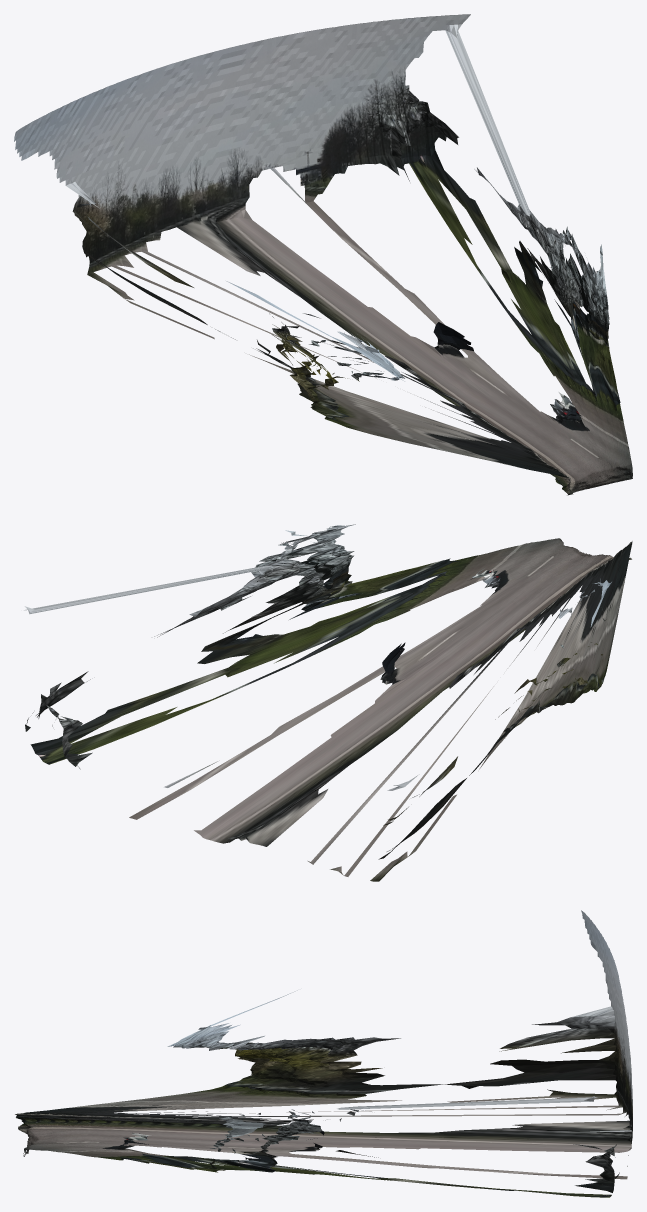
3 renders of one model, top to bottom at view 1: azimuth 30°, elevation 25°; view 2: azimuth 150°, elevation 25°; view 3: azimuth 270°, elevation 25°, orthographic. The views are drawn at different scales.
Visible parts, largest first — view 1: defaultobject; view 2: defaultobject; view 3: defaultobject.
Part boxes in pixels (<box>): defaultobject: <box>14,14,632,495</box>; defaultobject: <box>24,524,632,881</box>; defaultobject: <box>15,910,632,1197</box>.
Bounding box in the file's own units: 31.77 × 12.55 × 45.04.
1 material, 1 textured.
